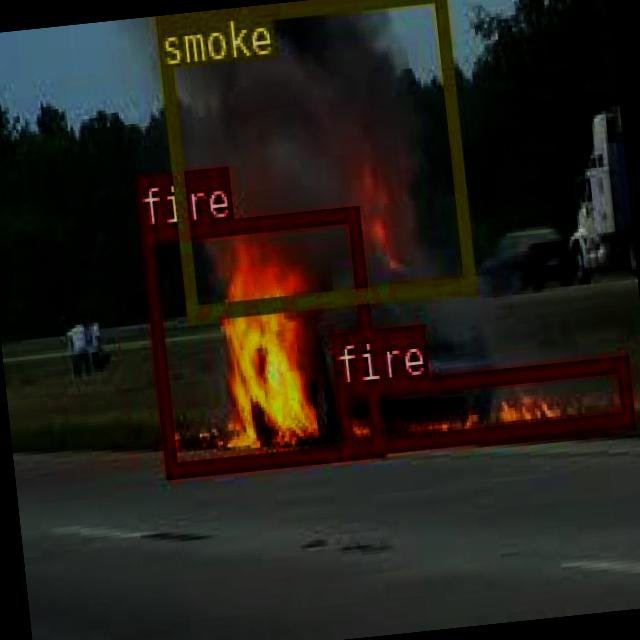fire: (138, 203, 380, 475), (332, 352, 632, 452)
smoke: (155, 0, 472, 319)
